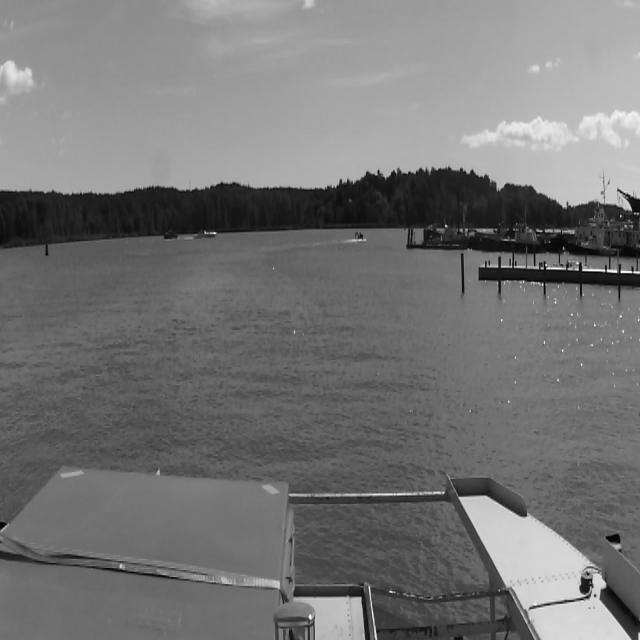ship: (193, 226, 217, 240), (163, 231, 179, 239), (355, 231, 365, 242)
